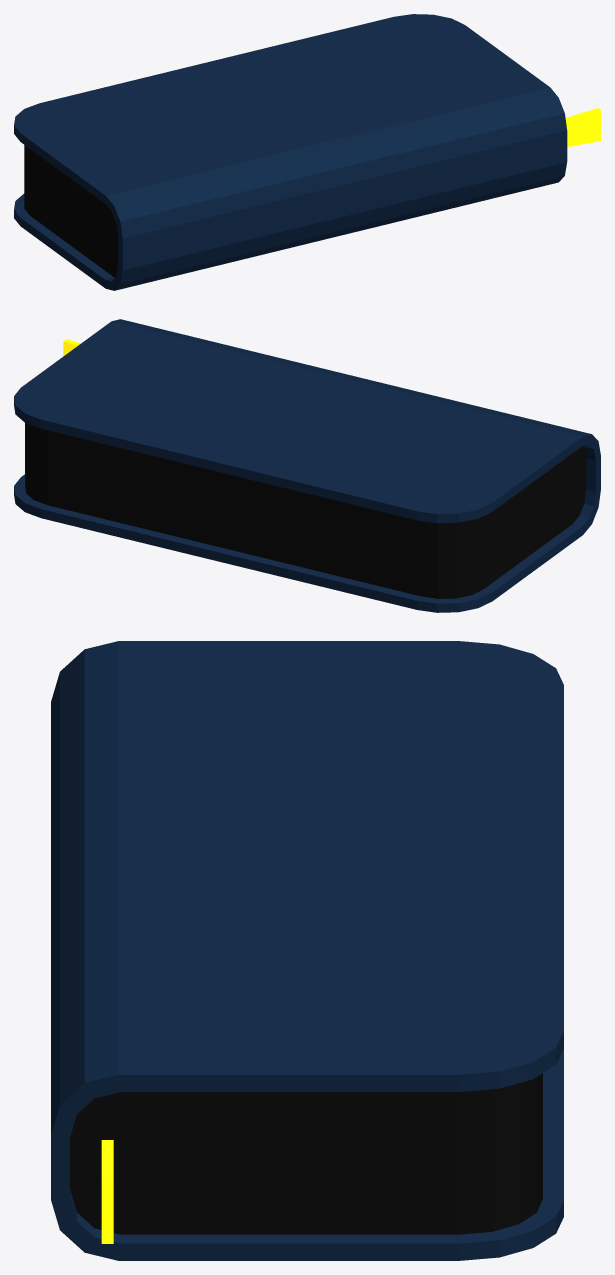
Rendered from wallet.fbx.
3 views of the same model, one above another, from view 1: azimuth 30°, elevation 25°; view 2: azimuth 150°, elevation 25°; view 3: azimuth 270°, elevation 25° (orthographic). The views are drawn at different scales.
Parts seen in each view (by area): view 1: wallet; view 2: wallet; view 3: wallet.
Part boxes in pixels (left/top/right/bottom): wallet: left=14, top=14, right=600, bottom=290; wallet: left=14, top=319, right=600, bottom=612; wallet: left=51, top=641, right=563, bottom=1260.
Size of the model in its own units: 22.09 by 4 by 10.
